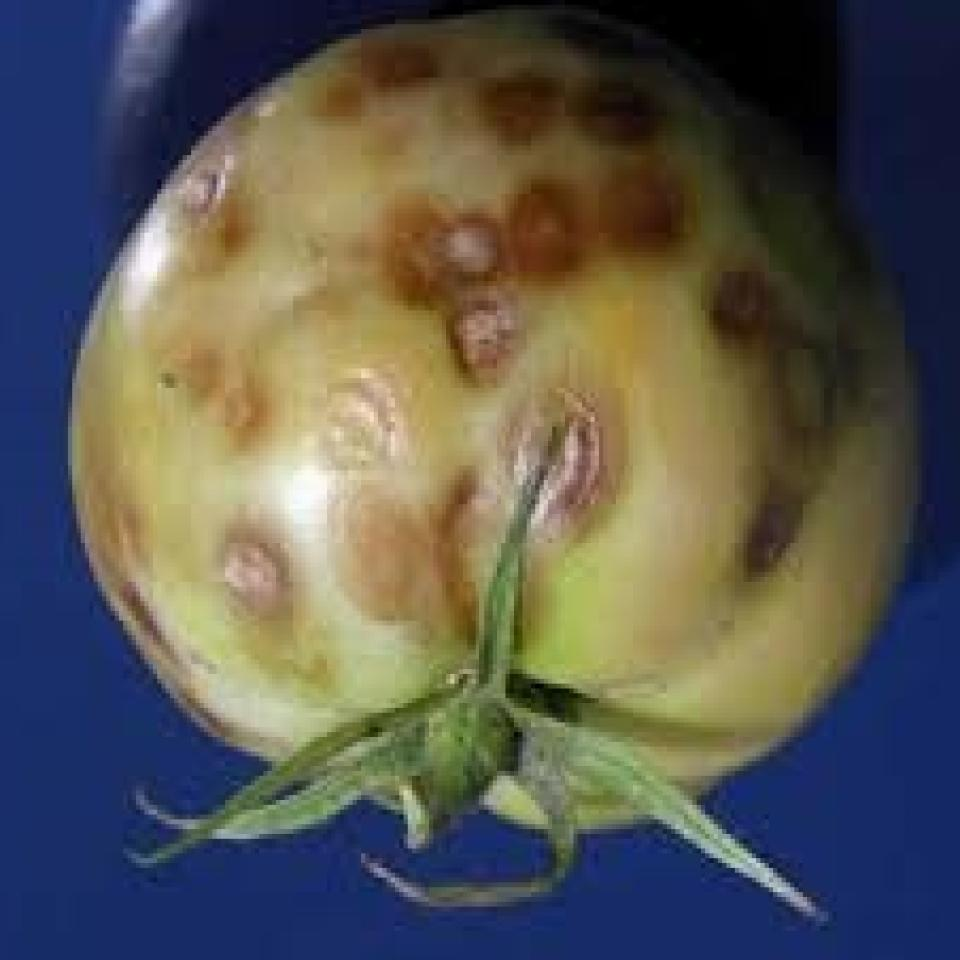Spotted wilt Virus: (70, 12, 917, 840)
